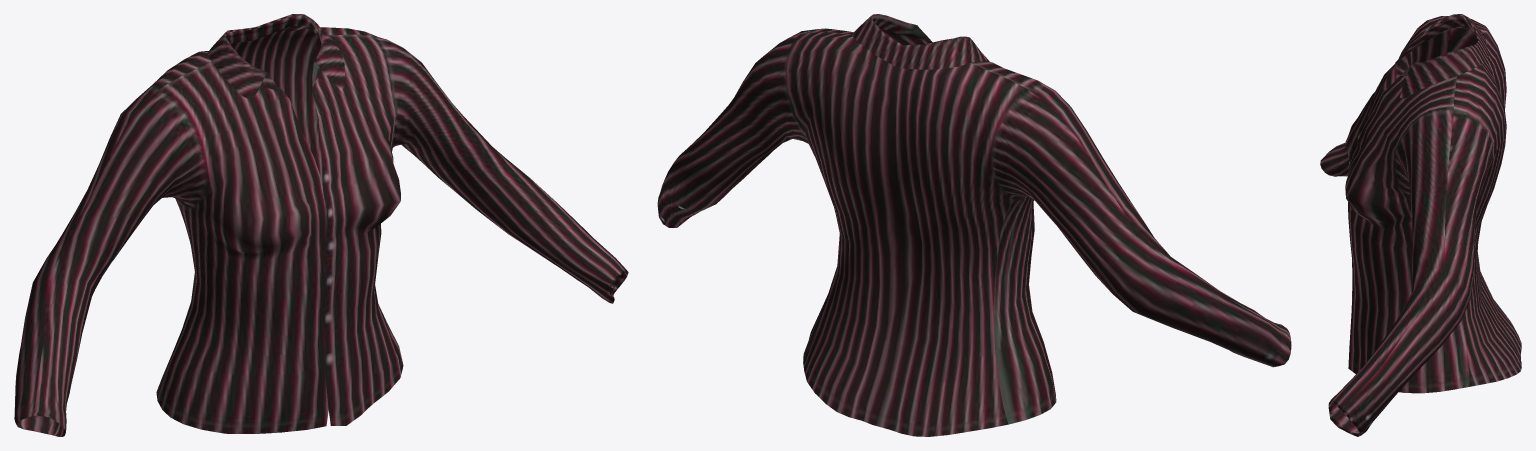
The model's file is blouse.glb.
The picture shows the model from 3 angles, left to right: view 1: azimuth 30°, elevation 25°; view 2: azimuth 150°, elevation 25°; view 3: azimuth 270°, elevation 25°; orthographic projection. The views are drawn at different scales.
Parts seen in each view (by area): view 1: blouse; view 2: blouse; view 3: blouse.
Boxes of the visible parts, x1,y1,x2,y2 form: blouse: [14, 14, 628, 436]; blouse: [657, 14, 1291, 436]; blouse: [1320, 14, 1521, 436].
Bounding box in the file's own units: 0.8822 × 0.5021 × 0.279.
1 material, 1 textured.
